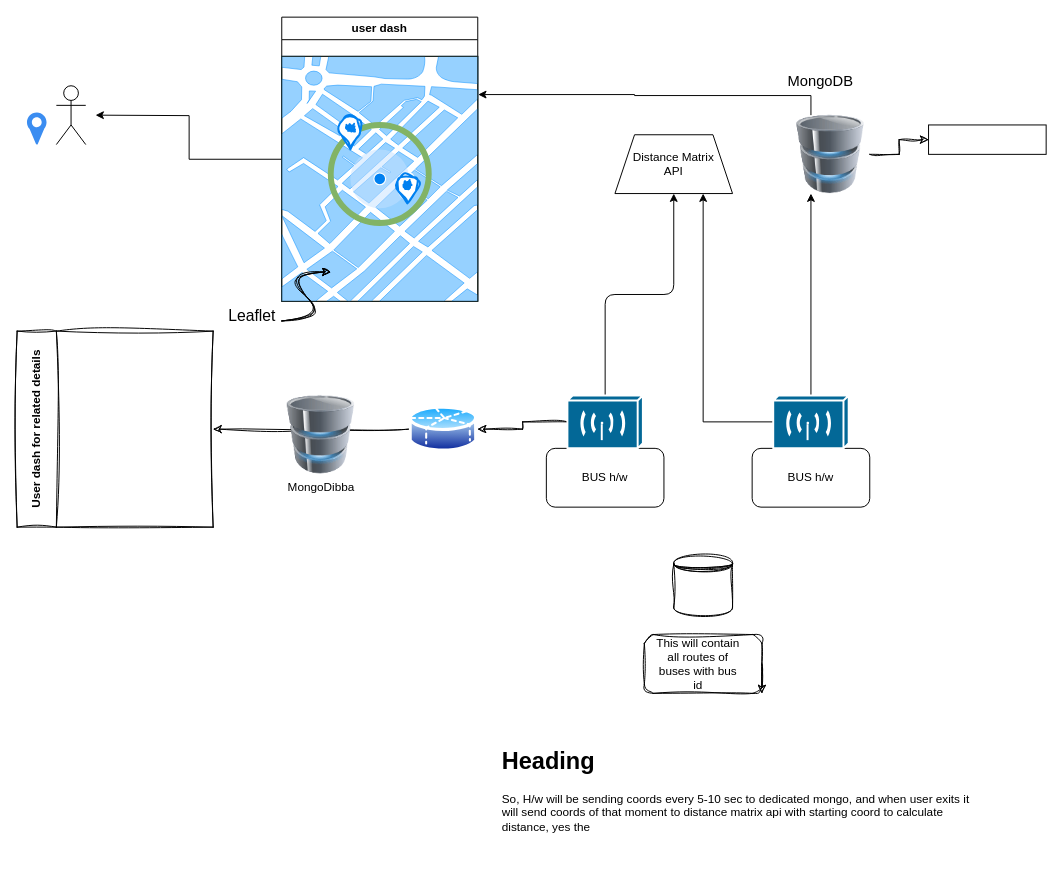
This 1063x877 diagram has some shape labels left out. The shapes that lost their labels are listed below. From the top down, each one's box as (x1, y1, x2, y2) in pixels, then its label:
(55, 85, 86, 145): Actor
(928, 124, 1046, 154): Co-ordinates
(409, 403, 477, 454): Firebase
(673, 555, 733, 615): Route DB
